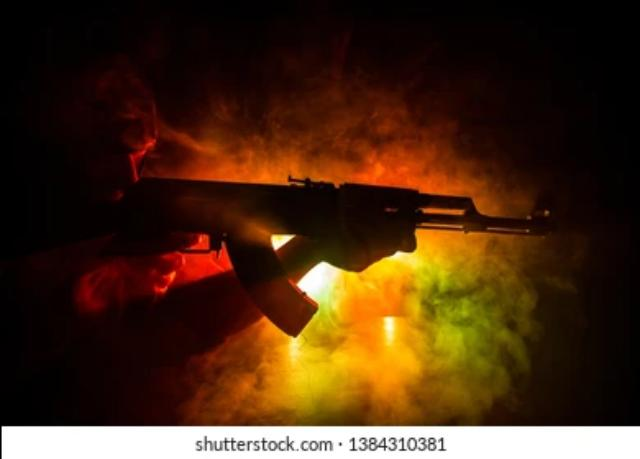other: (7, 74, 289, 417)
